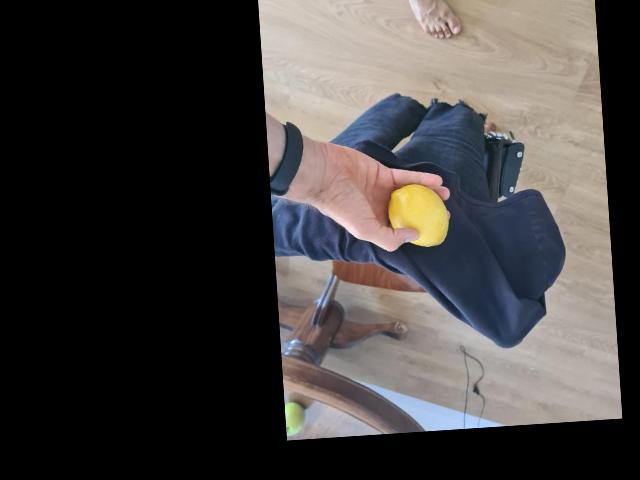lemon: (388, 182, 450, 248)
